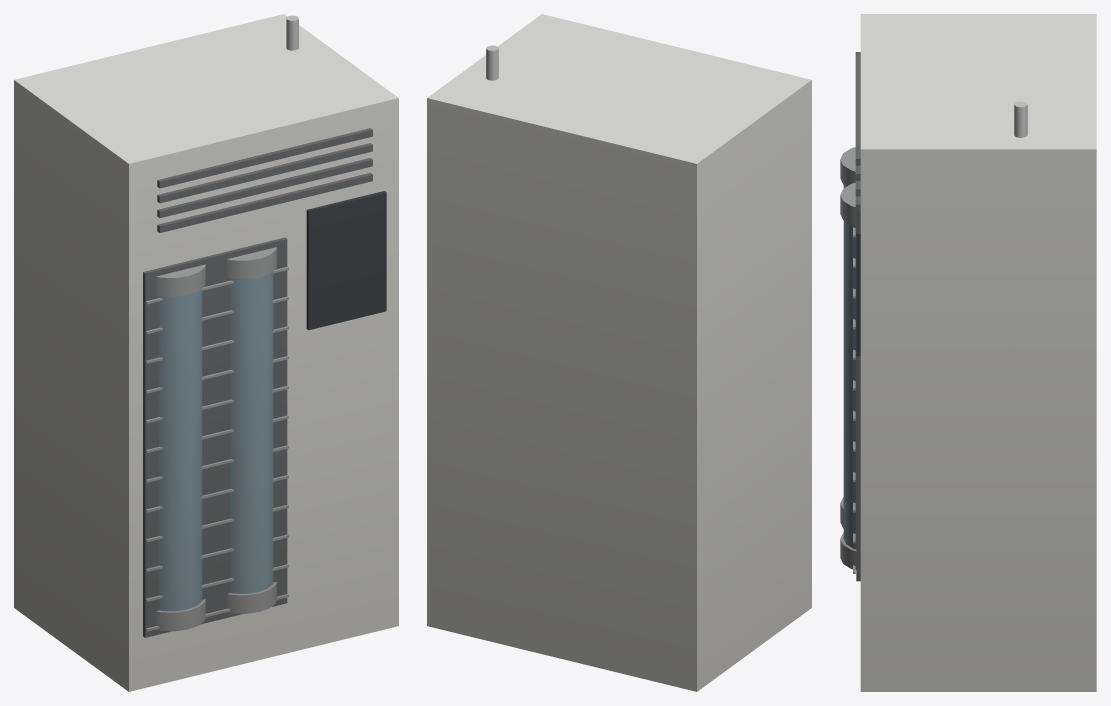
The model's file is o2conc_steel.glb.
The picture shows the model from 3 angles, left to right: view 1: azimuth 30°, elevation 25°; view 2: azimuth 150°, elevation 25°; view 3: azimuth 270°, elevation 25°; orthographic projection. The views are drawn at different scales.
Visible parts, largest first — view 1: o2conc_steel; view 2: o2conc_steel; view 3: o2conc_steel.
Part boxes in pixels (x1,y1,x2,y2): o2conc_steel: (14,14,398,691); o2conc_steel: (427,14,811,691); o2conc_steel: (840,14,1096,691).
Size of the model in its own units: 0.76 by 1.5 by 0.608.
